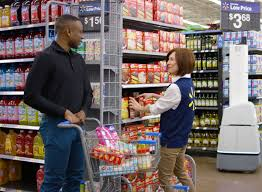Caution: (24, 13, 195, 191)
